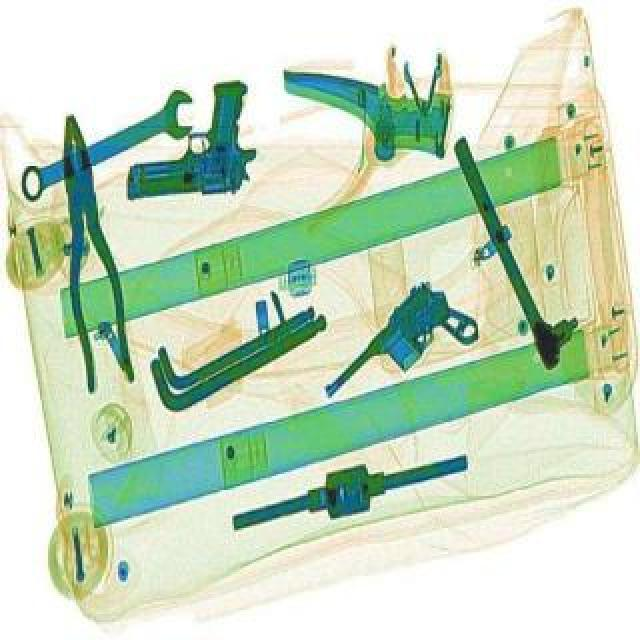gun: (318, 282, 488, 448), (112, 84, 262, 206)
scissors: (6, 90, 206, 212)
wrench: (42, 116, 134, 398)
